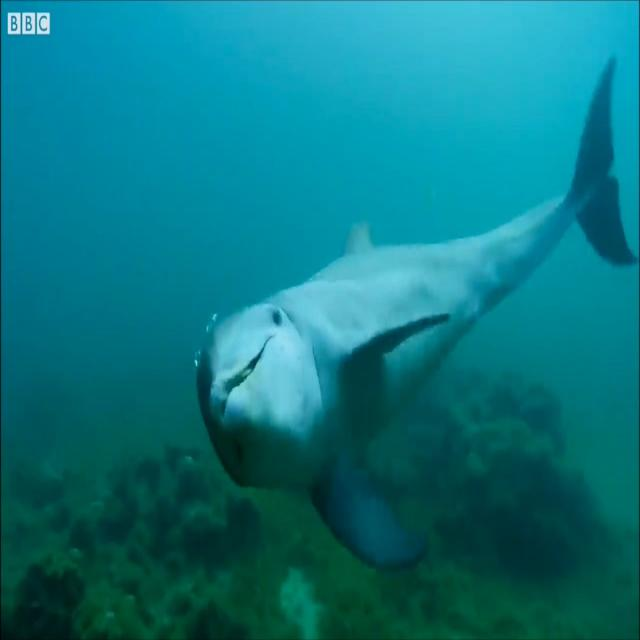Dolphin: (195, 52, 640, 566)
